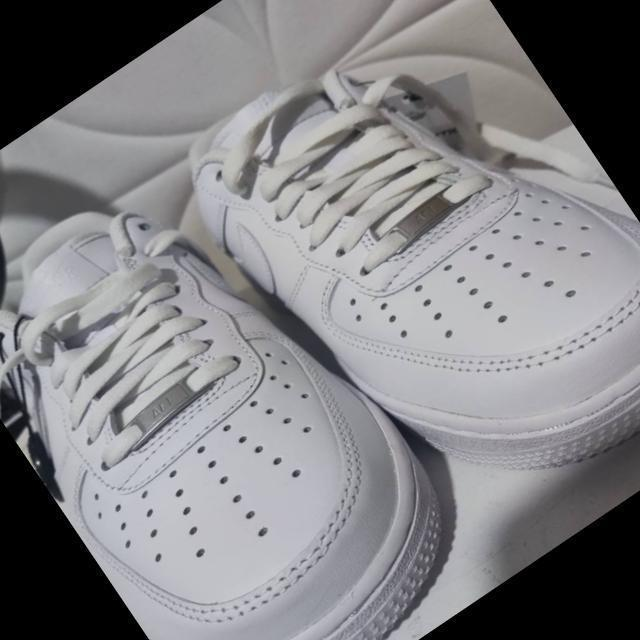nike original air force: (154, 0, 640, 578), (0, 111, 498, 640)
